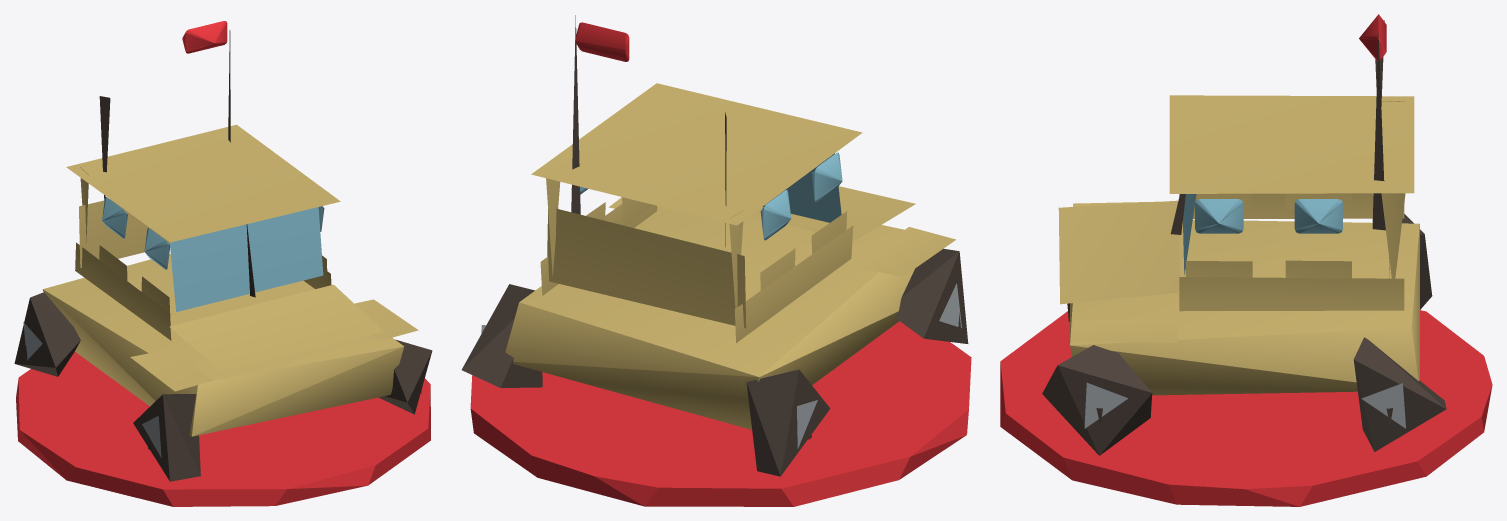
The model's file is israel_commander_lod1.glb.
3 renders of one model, left to right at view 1: azimuth 30°, elevation 25°; view 2: azimuth 150°, elevation 25°; view 3: azimuth 270°, elevation 25°, orthographic. The views are drawn at different scales.
Visible parts, largest first — view 1: body_hull, base_pedestal; view 2: body_hull, base_pedestal; view 3: body_hull, base_pedestal.
Boxes of the visible parts, <box> form: body_hull: <box>14,21,432,481</box>; base_pedestal: <box>16,352,430,506</box>; body_hull: <box>461,15,968,476</box>; base_pedestal: <box>470,321,971,506</box>; body_hull: <box>1042,14,1446,455</box>; base_pedestal: <box>1000,310,1492,506</box>.
Bounding box in the file's own units: 0.7751 × 0.7101 × 0.7751.
